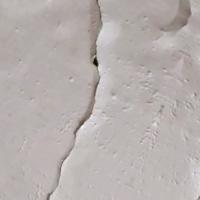crack: (31, 4, 118, 196)
